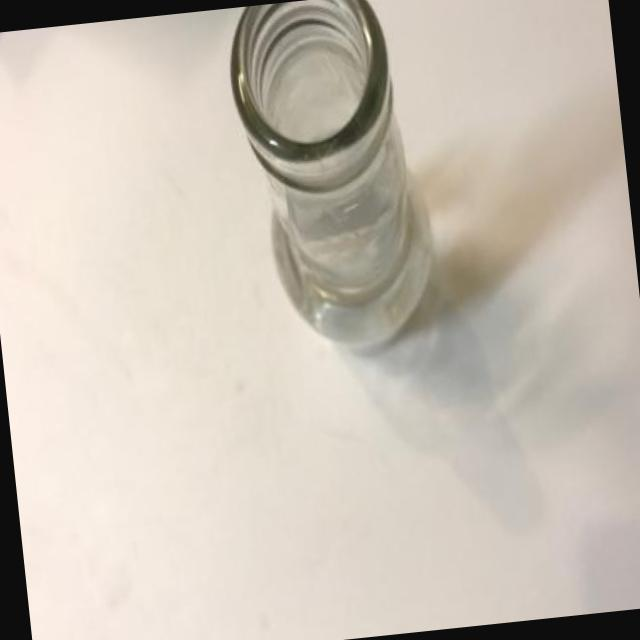chai_thuy_tinh: (231, 0, 433, 348)
